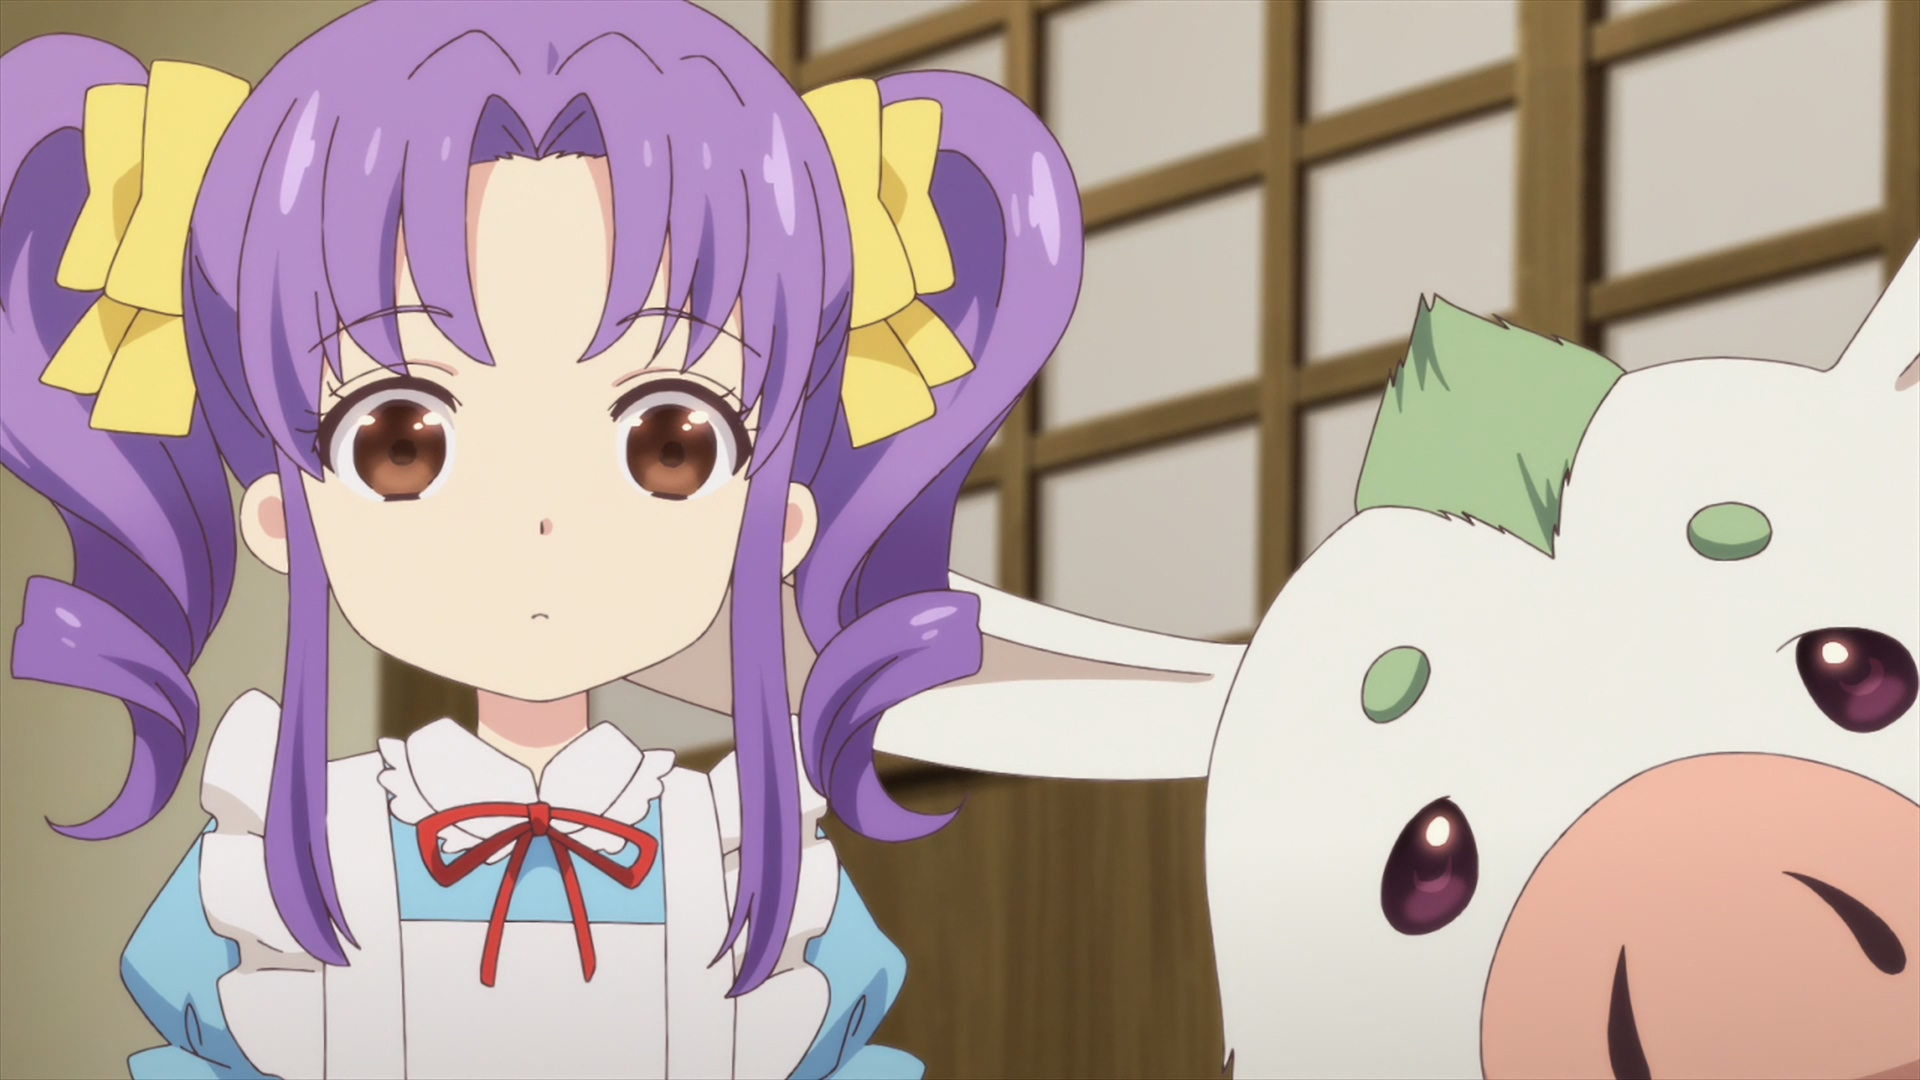瓜之介: (626, 237, 1920, 1080)
阿菊: (1, 1, 1085, 1080)
